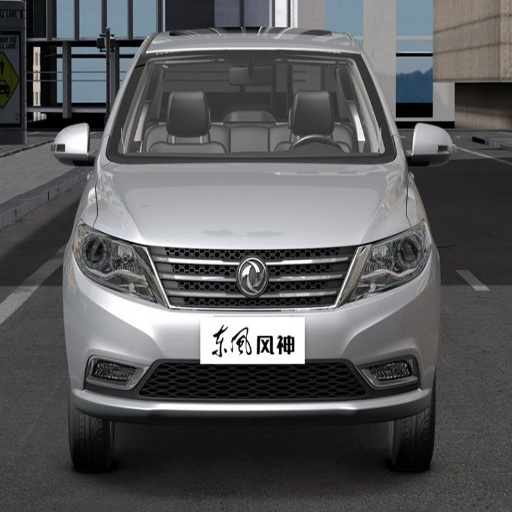front_bumper: (71, 243, 436, 414)
front_right_light: (73, 220, 163, 304)
hood: (97, 161, 408, 305)
left_mirror: (409, 122, 449, 166)
